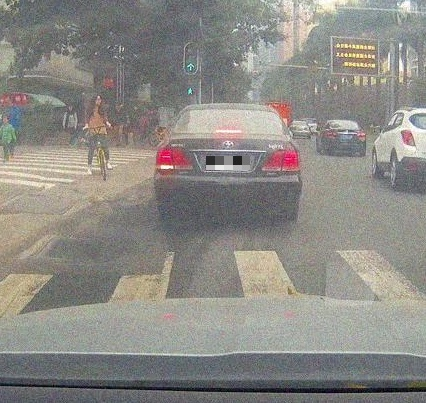L_light: (155, 149, 194, 170), (326, 132, 337, 137)
R_light: (261, 149, 300, 171), (356, 131, 365, 137)
T_light: (214, 128, 243, 134), (341, 121, 347, 123)
day-brake: (153, 103, 302, 221)
day-no: (325, 119, 366, 156)
plate_1: (206, 156, 250, 170)
